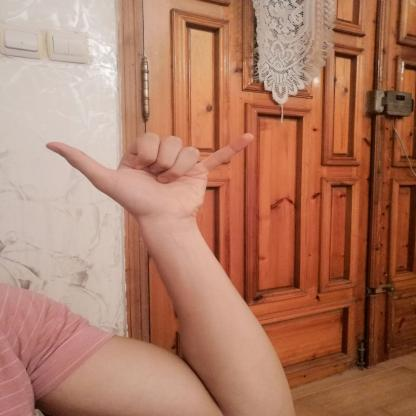YA: (33, 120, 270, 227)
